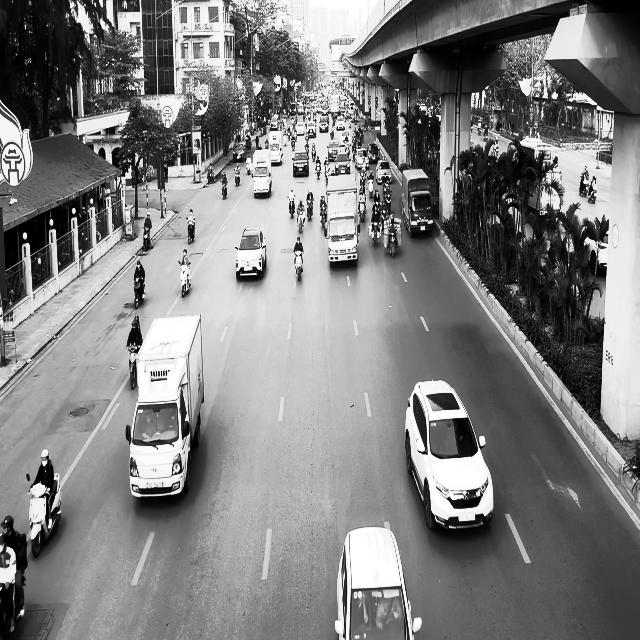bus: (401, 168, 434, 238)
car: (405, 378, 494, 532), (334, 525, 422, 639), (234, 226, 267, 280), (252, 163, 272, 198), (292, 150, 309, 177), (375, 159, 392, 184), (232, 142, 246, 162)
motorbike: (26, 472, 61, 558), (126, 343, 142, 389), (178, 260, 191, 297), (133, 275, 145, 309), (293, 250, 304, 280), (387, 230, 398, 258), (186, 218, 195, 244), (143, 226, 152, 252), (297, 210, 305, 232), (587, 184, 596, 203), (319, 205, 326, 228), (306, 199, 313, 221), (288, 198, 295, 217), (221, 180, 227, 200), (234, 170, 240, 186)
truck: (125, 314, 204, 498), (324, 174, 360, 266)
